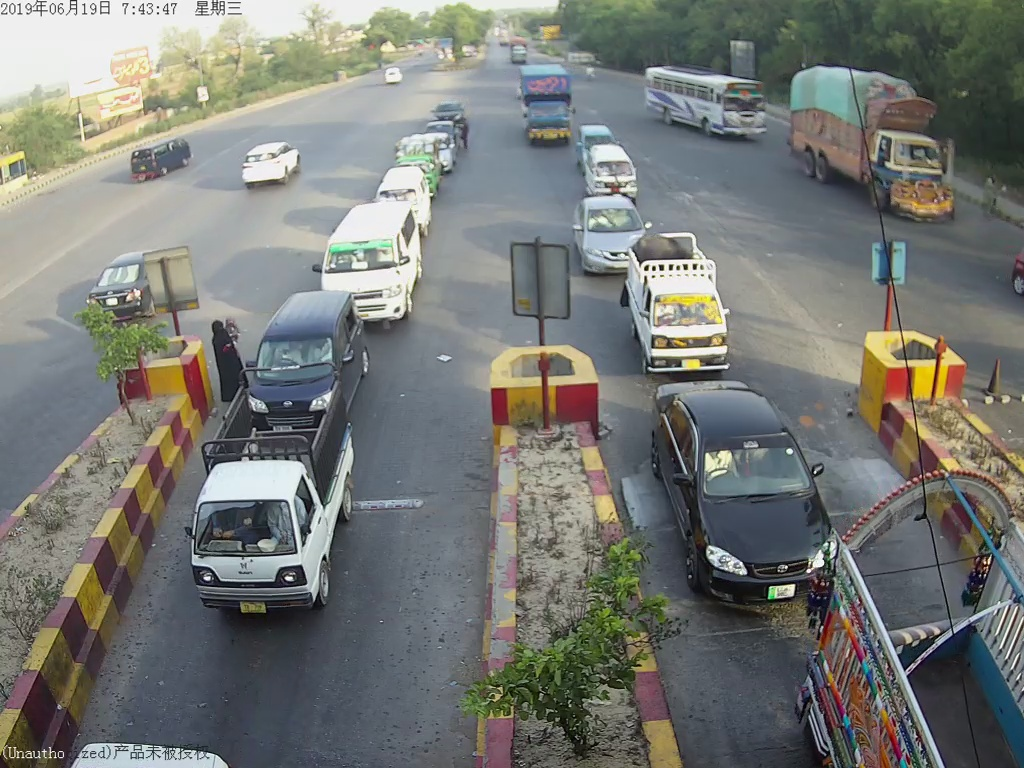Cat-1: (646, 381, 826, 597), (187, 402, 363, 610), (619, 241, 738, 368), (250, 293, 365, 392)
Cat-2: (323, 202, 426, 303)
